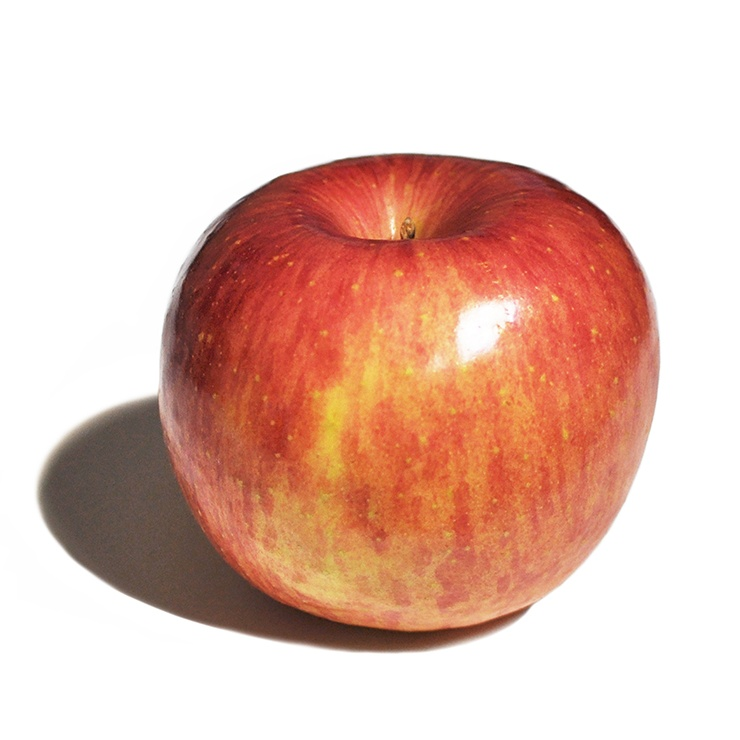apple: (159, 154, 670, 635)
